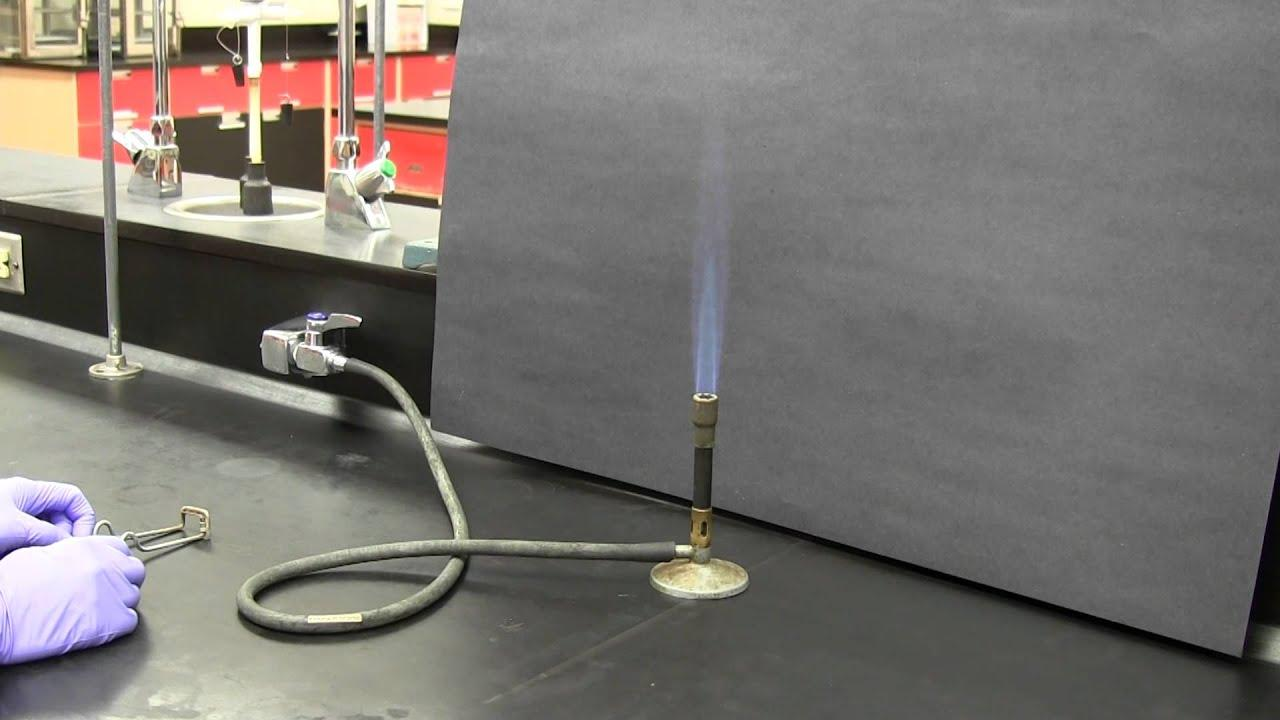controlled_fire: (646, 155, 768, 528)
